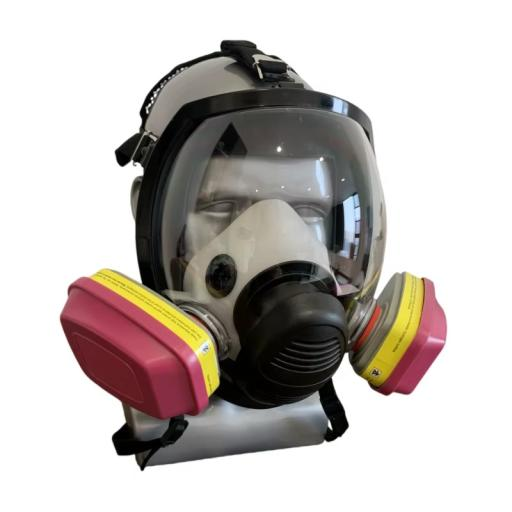mask: (44, 209, 469, 417)
